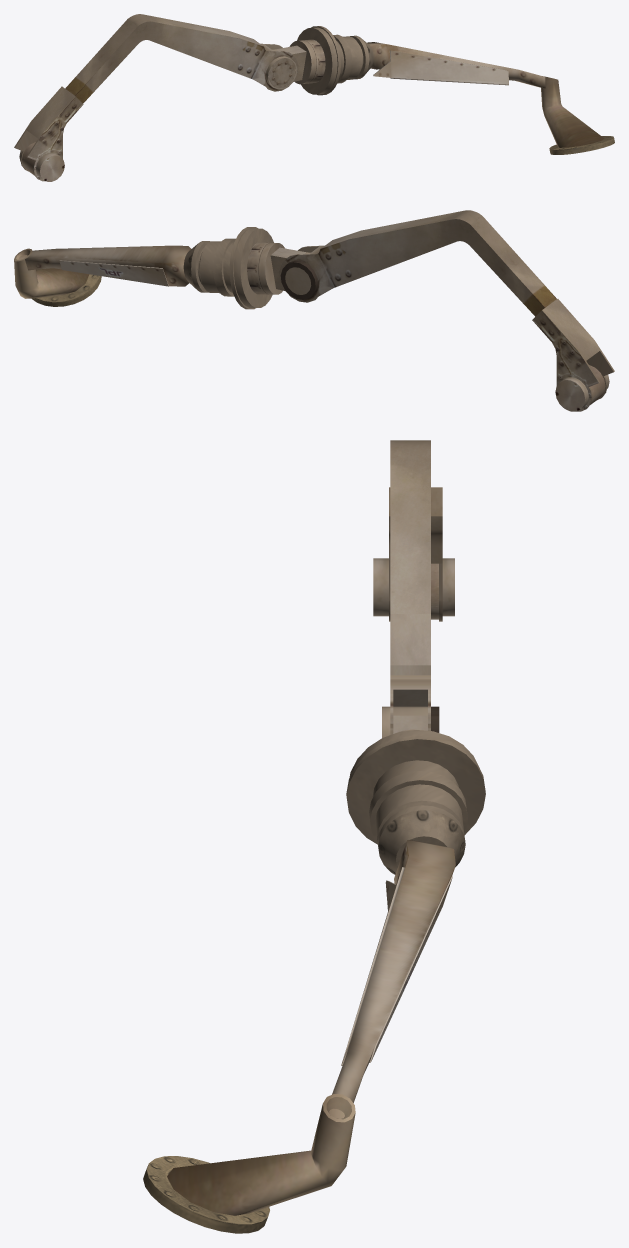
Rendered from Body_RockerRight.dae.
The picture shows the model from 3 angles, top to bottom: view 1: azimuth 30°, elevation 25°; view 2: azimuth 150°, elevation 25°; view 3: azimuth 270°, elevation 25°; orthographic projection. The views are drawn at different scales.
Visible parts, largest first — view 1: suspension_left_middle_rocker, suspension_left_front_rocker, suspension_left_front; view 2: suspension_left_middle_rocker, suspension_left_front_rocker, suspension_left_front; view 3: suspension_left_front_rocker, suspension_left_middle_rocker, suspension_left_front.
Boxes of the visible parts, x1=… form: suspension_left_middle_rocker: x1=14, y1=14, x2=298, y2=181; suspension_left_front_rocker: x1=367, y1=42, x2=614, y2=154; suspension_left_front: x1=272, y1=26, x2=373, y2=95; suspension_left_middle_rocker: x1=279, y1=210, x2=614, y2=411; suspension_left_front_rocker: x1=14, y1=245, x2=190, y2=306; suspension_left_front: x1=183, y1=227, x2=310, y2=309; suspension_left_front_rocker: x1=143, y1=840, x2=455, y2=1233; suspension_left_middle_rocker: x1=373, y1=440, x2=454, y2=737; suspension_left_front: x1=346, y1=706, x2=485, y2=874.
Bounding box in the file's own units: 1.03 × 0.2855 × 0.3631.
Materials: 1 (1 with a texture image).
